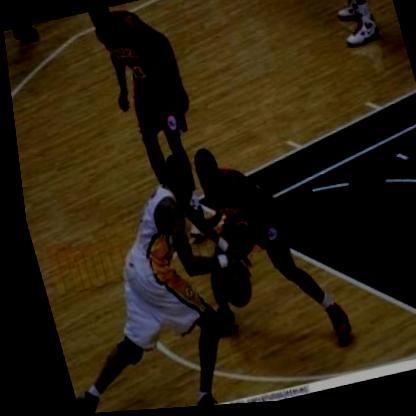basketball: (199, 252, 254, 322)
